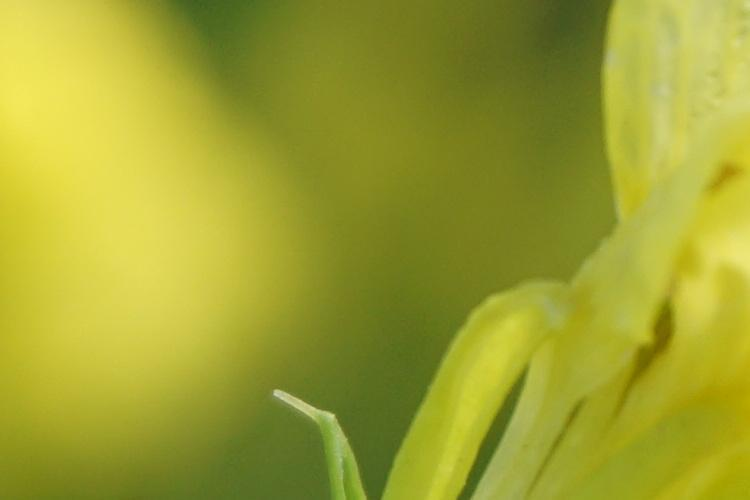yellow: (381, 18, 749, 493)
